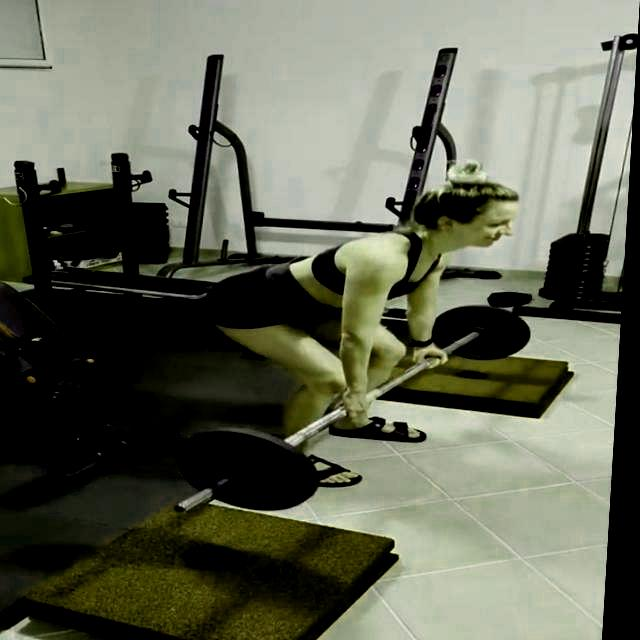barbell: (171, 427, 327, 517)
